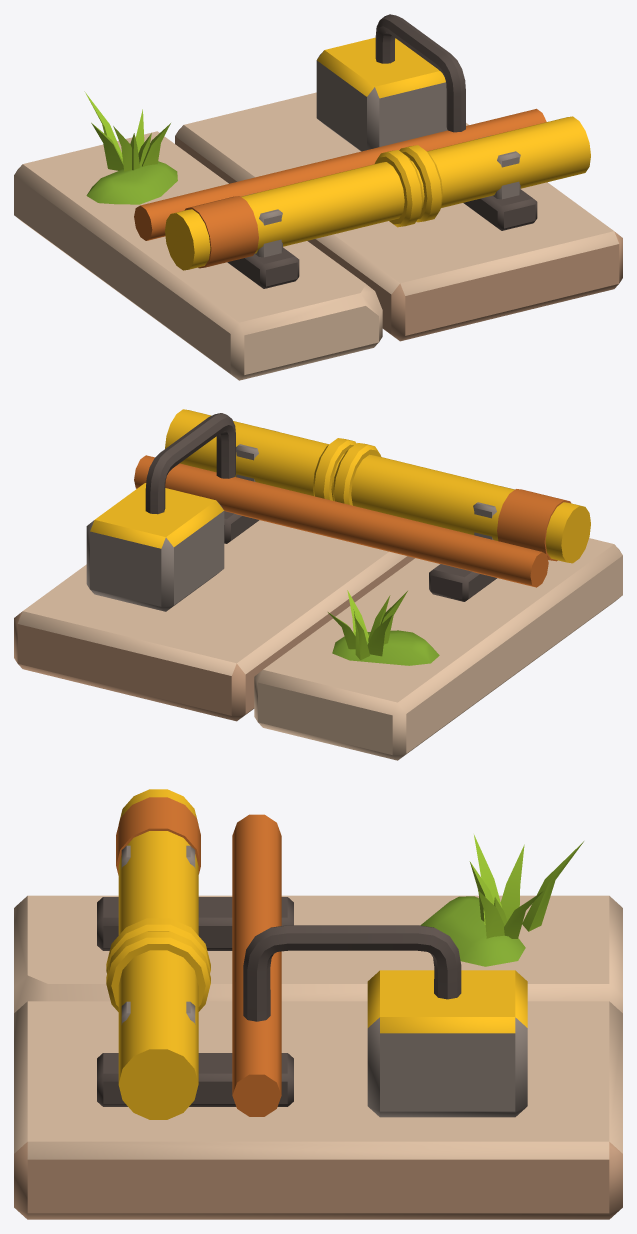
File: wall_top_b__upper.glb
3 views of the same model, one above another, from view 1: azimuth 30°, elevation 25°; view 2: azimuth 150°, elevation 25°; view 3: azimuth 270°, elevation 25° (orthographic). The views are drawn at different scales.
Parts seen in each view (by area): view 1: wall_top_b; view 2: wall_top_b; view 3: wall_top_b.
Boxes of the visible parts, x1,y1,x2,y2 form: wall_top_b: (14, 14, 622, 380); wall_top_b: (14, 409, 622, 760); wall_top_b: (14, 789, 622, 1219).
Size of the model in its own units: 1 by 0.4419 by 0.99.
